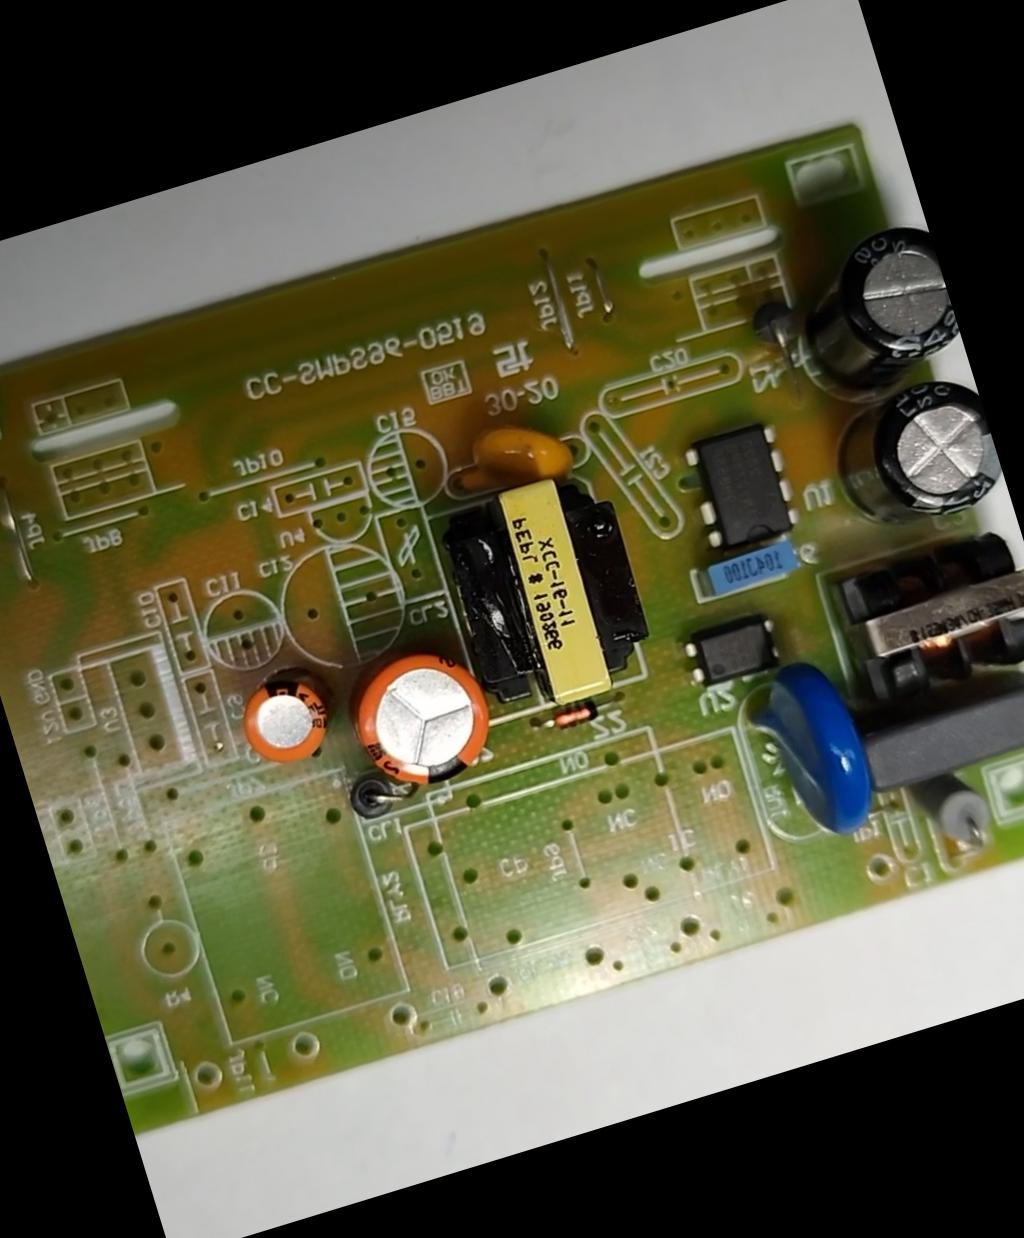Cap1: (335, 635, 506, 802)
Cap2: (225, 670, 338, 778)
Cap3: (815, 367, 1010, 547)
Cap4: (775, 216, 968, 409)
MOSFET: (673, 422, 805, 560)
Mov: (728, 646, 888, 855)
Resistor: (899, 765, 999, 861)
Transformer: (425, 460, 671, 727), (835, 521, 1023, 713)
